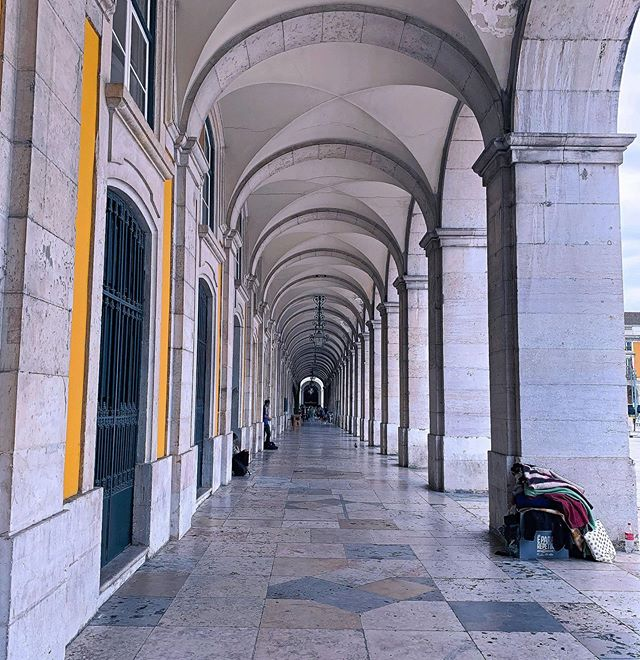collumn: (464, 129, 640, 577), (428, 218, 507, 497), (390, 265, 441, 468)
door: (82, 186, 164, 553)
